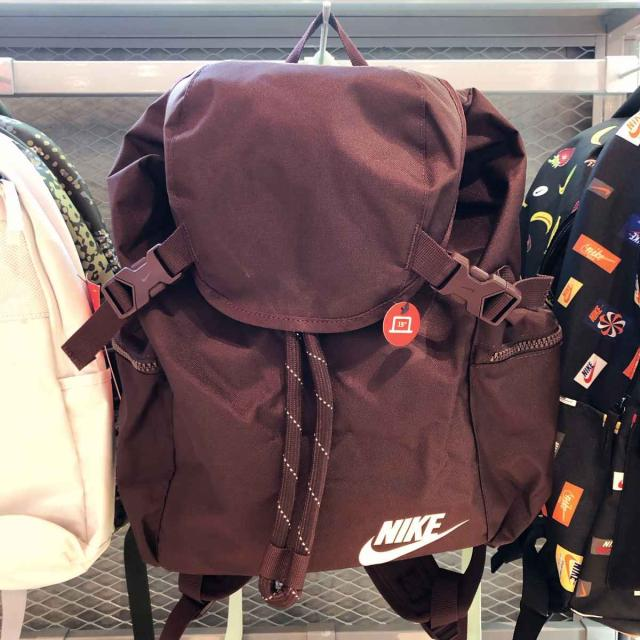handbag: (112, 50, 543, 577)
